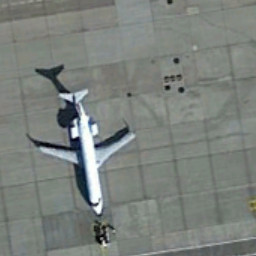Airplane: (29, 80, 141, 224)
